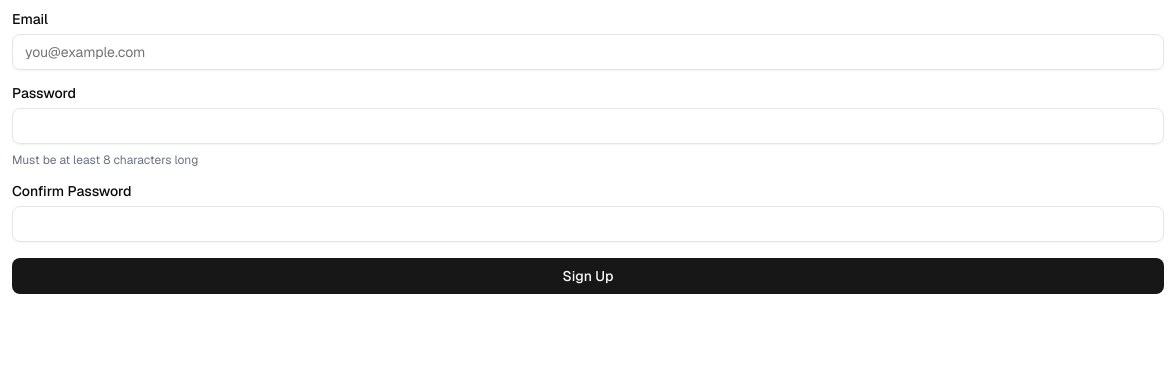
Scenario: SignUpForm — error handling › shows generic error when server provides none
Type "pass1234" into the password field labelled "Password" at (588, 126), box [12,108,1164,144]
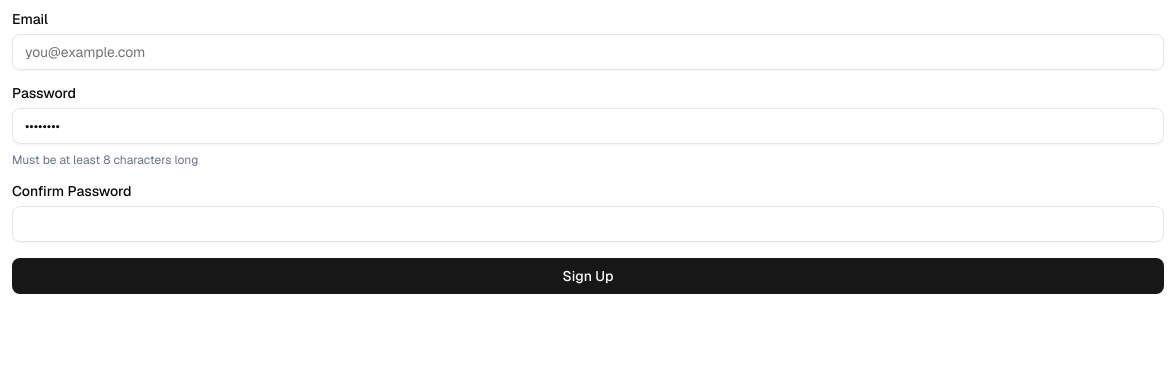
Type "pass1234" into the password field labelled "Confirm Password" at (588, 224), box [12,206,1164,242]
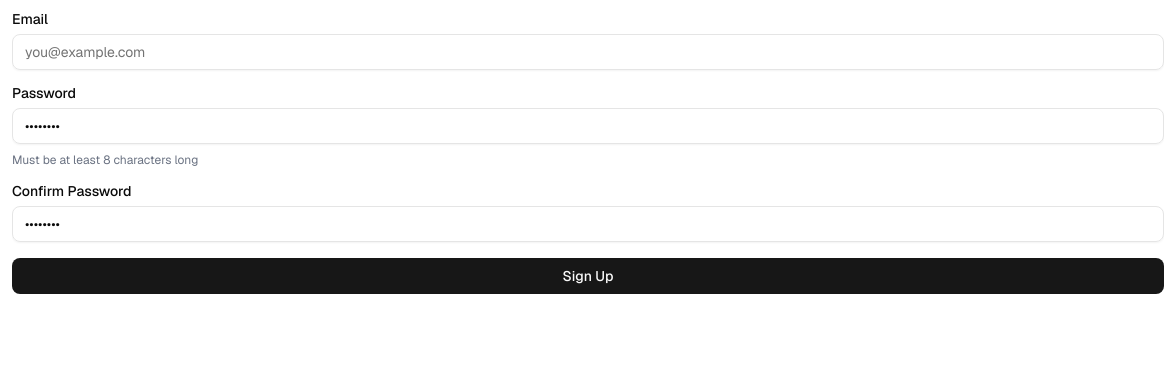
Submit the form labelled "Email"
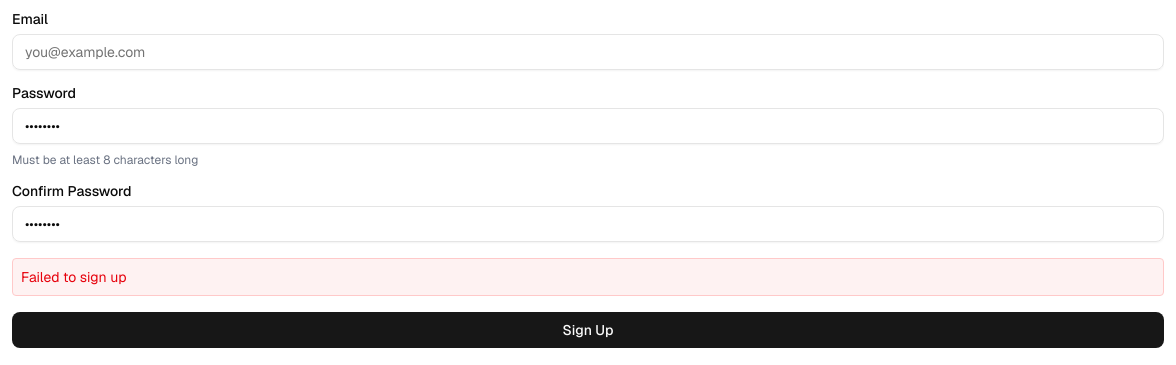
Result: the text "Failed to sign up" is shown at [12,258,1164,296]
